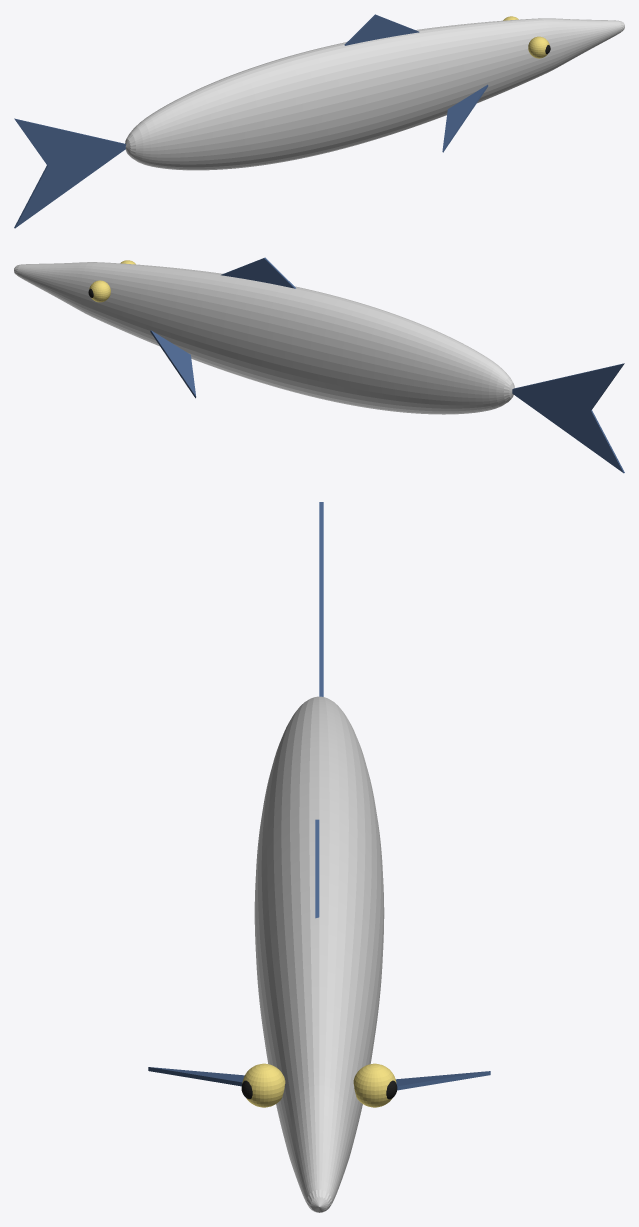
File: fisch_sturmhecht_roh.glb
3 views of the same model, one above another, from view 1: azimuth 30°, elevation 25°; view 2: azimuth 150°, elevation 25°; view 3: azimuth 270°, elevation 25° (orthographic). The views are drawn at different scales.
Visible parts, largest first — view 1: koerper, flosse, flosse.001, flosse.003, Sphere.002; view 2: koerper, flosse, flosse.001, flosse.002, Sphere; view 3: koerper, Sphere, Sphere.002, flosse.
Part boxes in pixels (x1,y1,x2,y2): koerper: [125, 18, 624, 170]; flosse: [14, 118, 126, 228]; flosse.001: [344, 14, 419, 45]; flosse.003: [442, 84, 488, 152]; Sphere.002: [528, 36, 549, 58]; koerper: [14, 262, 514, 414]; flosse: [512, 363, 624, 473]; flosse.001: [221, 257, 295, 288]; flosse.002: [150, 330, 196, 398]; Sphere: [89, 280, 110, 302]; koerper: [254, 696, 384, 1212]; Sphere: [353, 1063, 396, 1107]; Sphere.002: [242, 1063, 285, 1107]; flosse: [319, 502, 323, 696].
Size of the model in its own units: 1.04 by 0.2051 by 0.252.
